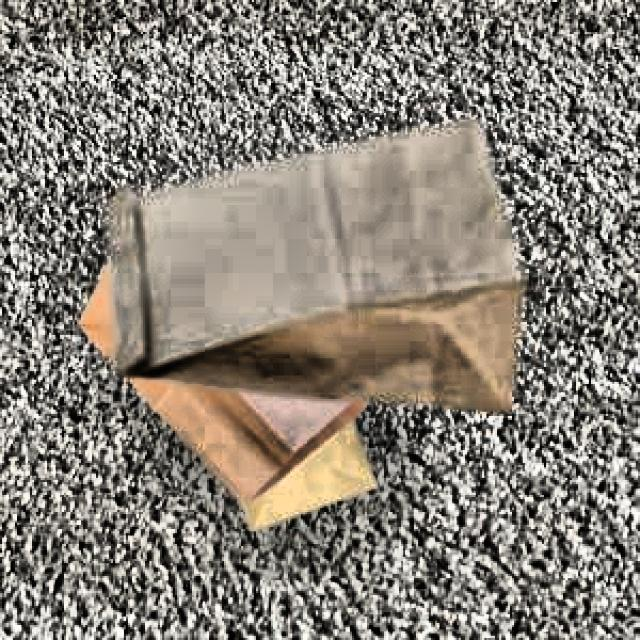Paper-bag: (108, 107, 527, 419)
